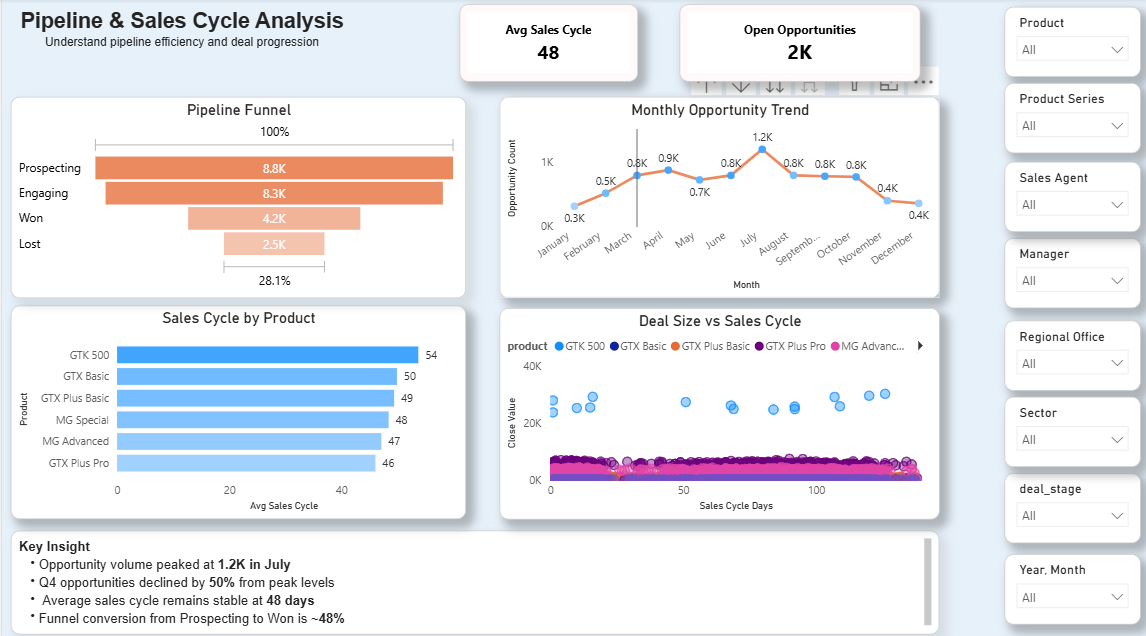

Layout of this report page (visuals, bound fields, positions):
{"tool":"powerbi","page":{"name":"Pipeline & Sales Cycle Analysis","canvas":[1280,720],"ordinal":4},"visuals":[{"type":"cardVisual","title":"Total Revenue","fields":{"Data":["Measures_table.Avg Sales Cycle"]},"box":[510.4,7,199.4,86.5],"z":0},{"type":"lineChart","title":"Monthly Opportunity Trend","fields":{"Y":["Measures_table.Total Opportunities"],"Category":["sales_pipeline.engage_date.Variation.Date Hierarchy.Year","sales_pipeline.engage_date.Variation.Date Hierarchy.Quarter","sales_pipeline.engage_date.Variation.Date Hierarchy.Month","sales_pipeline.engage_date.Variation.Date Hierarchy.Day"]},"box":[555.1,110.2,490.9,224.5],"z":1000},{"type":"textbox","box":[9.8,7,382.1,83.7],"z":2000},{"type":"cardVisual","fields":{"Data":["Measures_table.Open Opportunities"]},"box":[755.9,7,269.2,86.5],"z":3000},{"type":"slicer","fields":{"Values":["products.product"]},"box":[1118.5,9.8,152,78.1],"z":4000},{"type":"slicer","fields":{"Values":["products.series"]},"box":[1118.5,94.8,152,78.1],"z":5000},{"type":"slicer","fields":{"Values":["sales_teams.manager"]},"box":[1118.5,267.8,152,78.1],"z":6000},{"type":"slicer","fields":{"Values":["sales_teams.regional_office"]},"box":[1118.5,359.8,152,78.1],"z":7000},{"type":"slicer","fields":{"Values":["sales_pipeline.deal_stage"]},"box":[1118.5,530,152,78.1],"z":8000},{"type":"slicer","fields":{"Values":["accounts.sector"]},"box":[1118.5,444.9,152,78.1],"z":9000},{"type":"slicer","fields":{"Values":["sales_pipeline.engage_date.Variation.Date Hierarchy.Year","sales_pipeline.engage_date.Variation.Date Hierarchy.Month"]},"box":[1118.5,620.6,152,78.1],"z":10000},{"type":"textbox","box":[9.8,594.1,1036.2,115.8],"z":11000},{"type":"slicer","fields":{"Values":["sales_pipeline.sales_agent"]},"box":[1118.5,182.7,152,78.1],"z":12000},{"type":"clusteredBarChart","title":"Sales Cycle by Product","fields":{"Y":["Measures_table.Avg Sales Cycle"],"Category":["products.product"]},"box":[9.8,343.1,507.7,238.5],"z":13000},{"type":"scatterChart","title":"Deal Size vs Sales Cycle","fields":{"Y":["sales_pipeline.close_value"],"X":["sales_pipeline.Sales Cycle Days"],"Series":["sales_pipeline.product"]},"box":[555.1,345.9,490.9,235.7],"z":14000},{"type":"funnel","title":"Pipeline Funnel","fields":{"Category":["Funnel Stage.Stage"],"Y":["Measures_table.Funnel Value"]},"box":[9.8,110.2,507.7,224.5],"z":15000}]}

Visuals, with their boxes in screenshot pixels (x1, y1, x2, y2), scaled from the page's 1280x720 canvas onto the 1146x636 screenshot:
"Total Revenue" cardVisual: box=[457, 6, 635, 83]
"Monthly Opportunity Trend" lineChart: box=[497, 97, 936, 296]
textbox: box=[9, 6, 351, 80]
cardVisual - Measures_table.Open Opportunities: box=[677, 6, 918, 83]
slicer - products.product: box=[1001, 9, 1137, 78]
slicer - products.series: box=[1001, 84, 1137, 153]
slicer - sales_teams.manager: box=[1001, 237, 1137, 306]
slicer - sales_teams.regional_office: box=[1001, 318, 1137, 387]
slicer - sales_pipeline.deal_stage: box=[1001, 468, 1137, 537]
slicer - accounts.sector: box=[1001, 393, 1137, 462]
slicer - sales_pipeline.engage_date.Variation.Date Hierarchy.Year x sales_pipeline.engage_date.Variation.Date Hierarchy.Month: box=[1001, 548, 1137, 617]
textbox: box=[9, 525, 936, 627]
slicer - sales_pipeline.sales_agent: box=[1001, 161, 1137, 230]
"Sales Cycle by Product" clusteredBarChart: box=[9, 303, 463, 514]
"Deal Size vs Sales Cycle" scatterChart: box=[497, 306, 936, 514]
"Pipeline Funnel" funnel: box=[9, 97, 463, 296]
